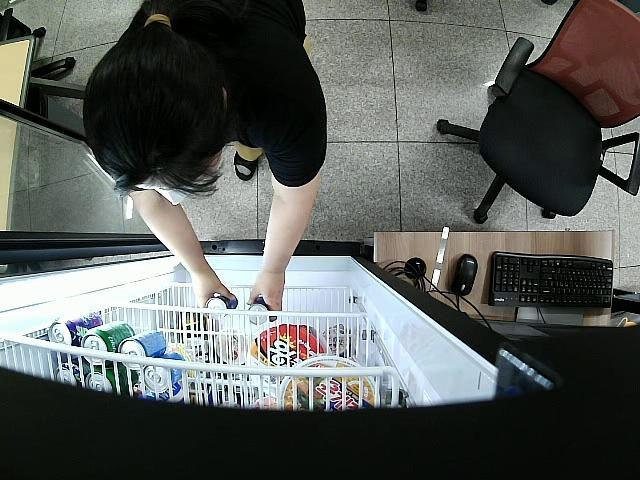16_hot6: (206, 292, 238, 319), (243, 296, 269, 326)
